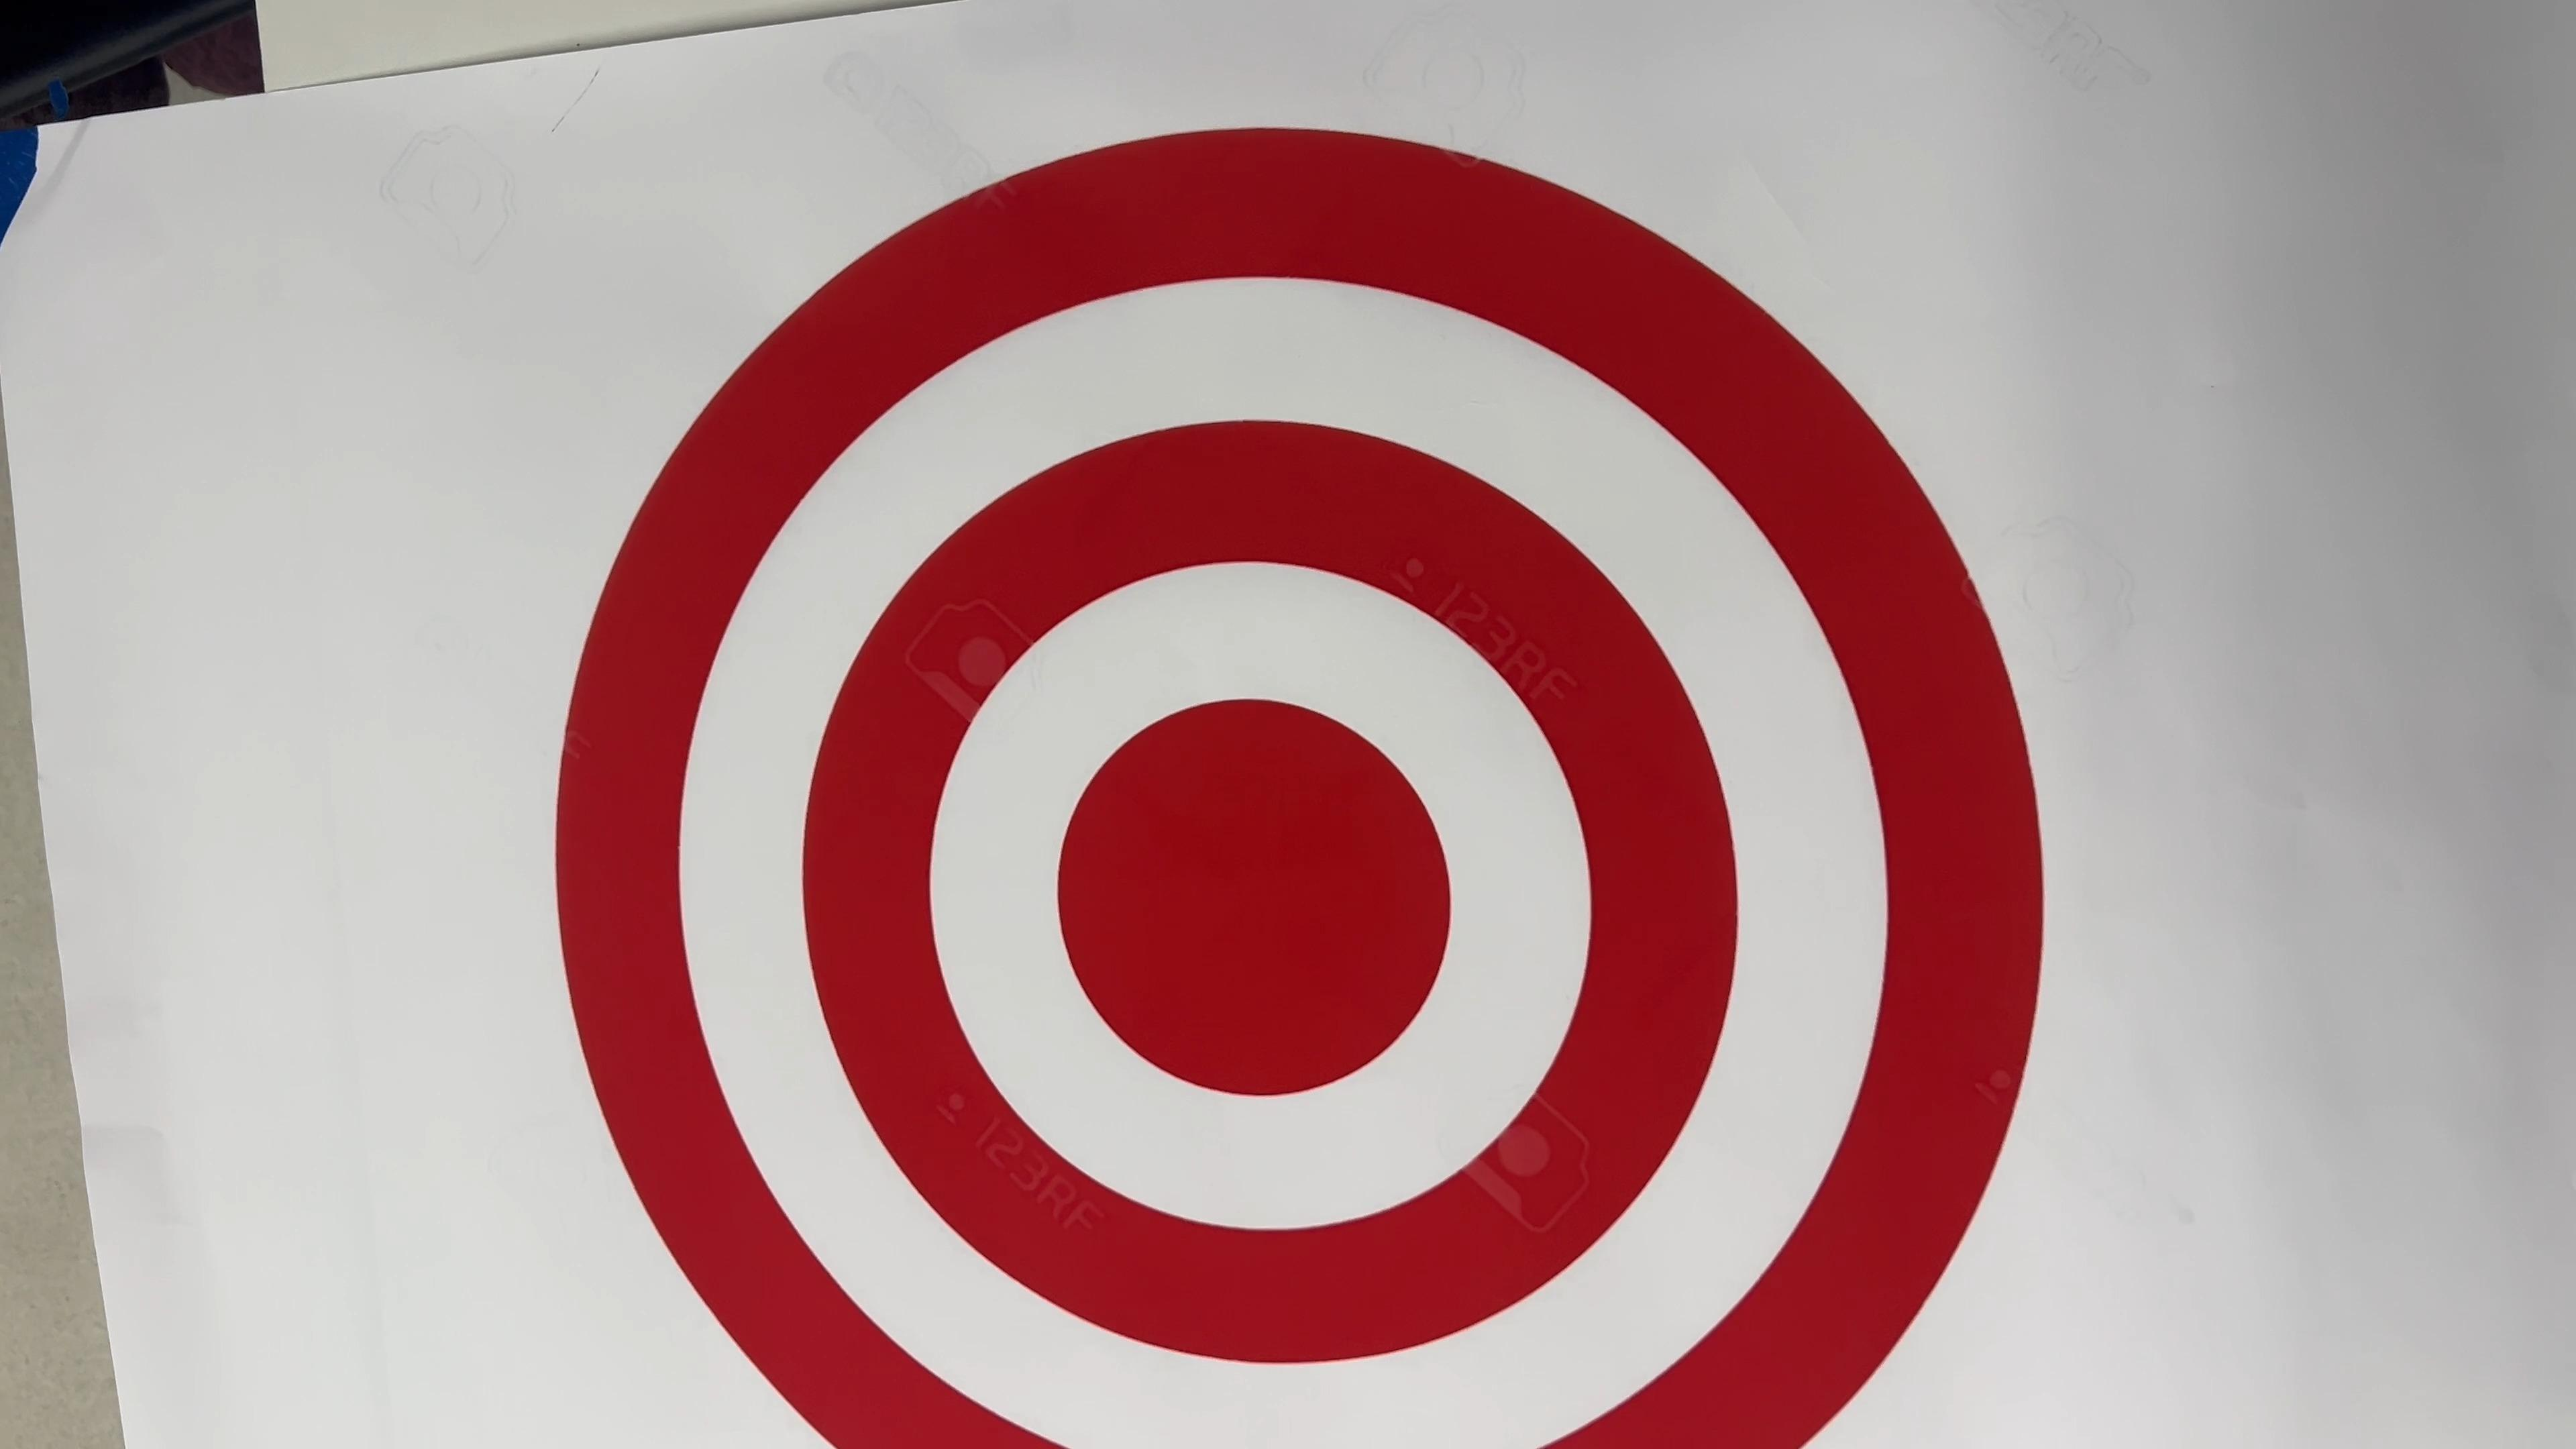target_red: (384, 108, 2164, 1449)
